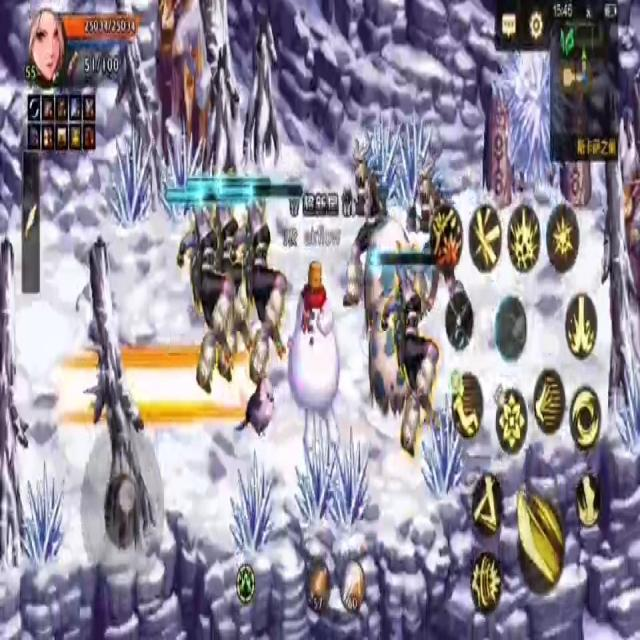player: (292, 248, 342, 452)
